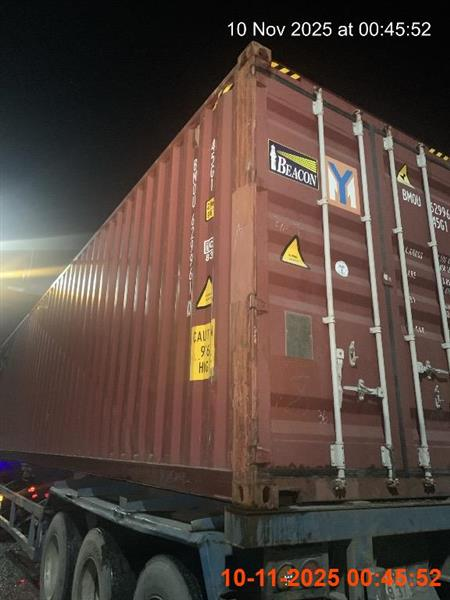broken: (1, 42, 449, 599)
